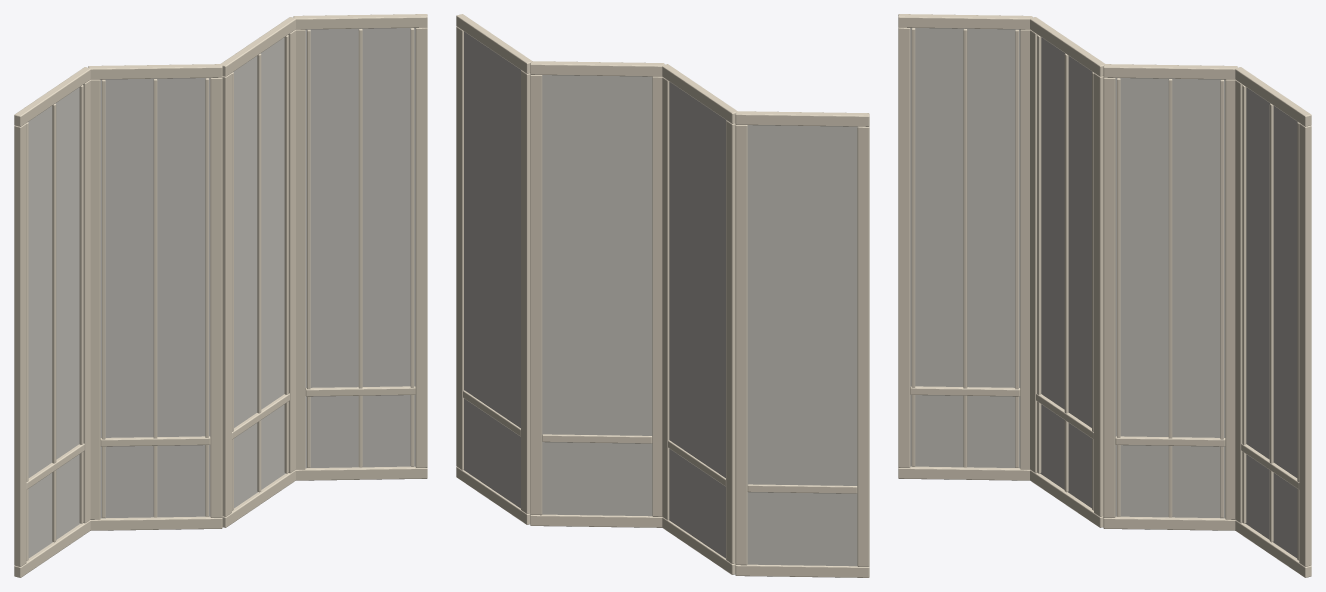
File: sg_screen.glb
3 renders of one model, left to right at view 1: azimuth 30°, elevation 25°; view 2: azimuth 150°, elevation 25°; view 3: azimuth 330°, elevation 25°, orthographic.
Visible parts, largest first — view 1: panel1, panel3, panel0, panel2; view 2: panel0, panel2, panel3, panel1; view 3: panel2, panel0, panel3, panel1.
Part boxes in pixels (x1,y1,x2,y2): panel1: [88, 64, 222, 530]; panel3: [293, 14, 427, 480]; panel0: [14, 67, 90, 577]; panel2: [221, 17, 295, 527]; panel0: [735, 111, 869, 577]; panel2: [530, 61, 664, 527]; panel3: [456, 14, 531, 524]; panel1: [662, 64, 737, 574]; panel2: [1103, 64, 1237, 530]; panel0: [898, 14, 1032, 480]; panel3: [1235, 67, 1311, 577]; panel1: [1030, 17, 1104, 527].
Size of the model in its own units: 1.78 by 1.9 by 0.2588.
